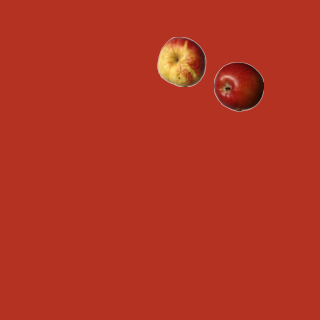Apple Braeburn: (213, 61, 263, 111)
Apple Red Yellow 1: (156, 36, 206, 86)
